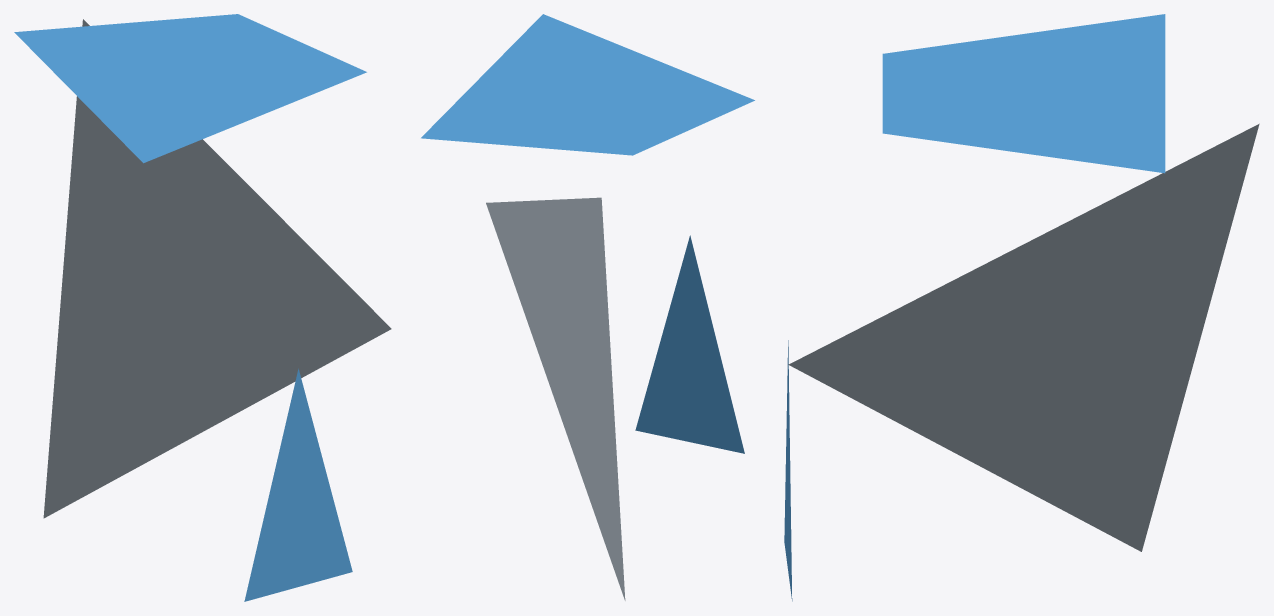
The model's file is AL_PrismTower_LOD2.glb.
The picture shows the model from 3 angles, left to right: view 1: azimuth 30°, elevation 25°; view 2: azimuth 150°, elevation 25°; view 3: azimuth 270°, elevation 25°; orthographic projection. The views are drawn at different scales.
Visible parts, largest first — view 1: EntranceGate; view 2: EntranceGate; view 3: EntranceGate.
Part boxes in pixels (x1=…): EntranceGate: x1=14, y1=14, x2=391, y2=601; EntranceGate: x1=421, y1=14, x2=754, y2=600; EntranceGate: x1=784, y1=14, x2=1259, y2=601.
Size of the model in its own units: 240 by 495 by 403.
